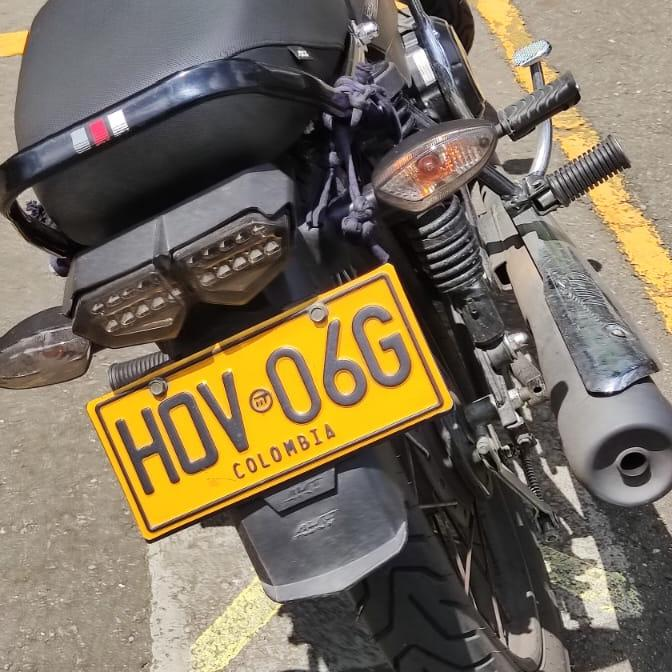plates: (90, 266, 449, 540)
